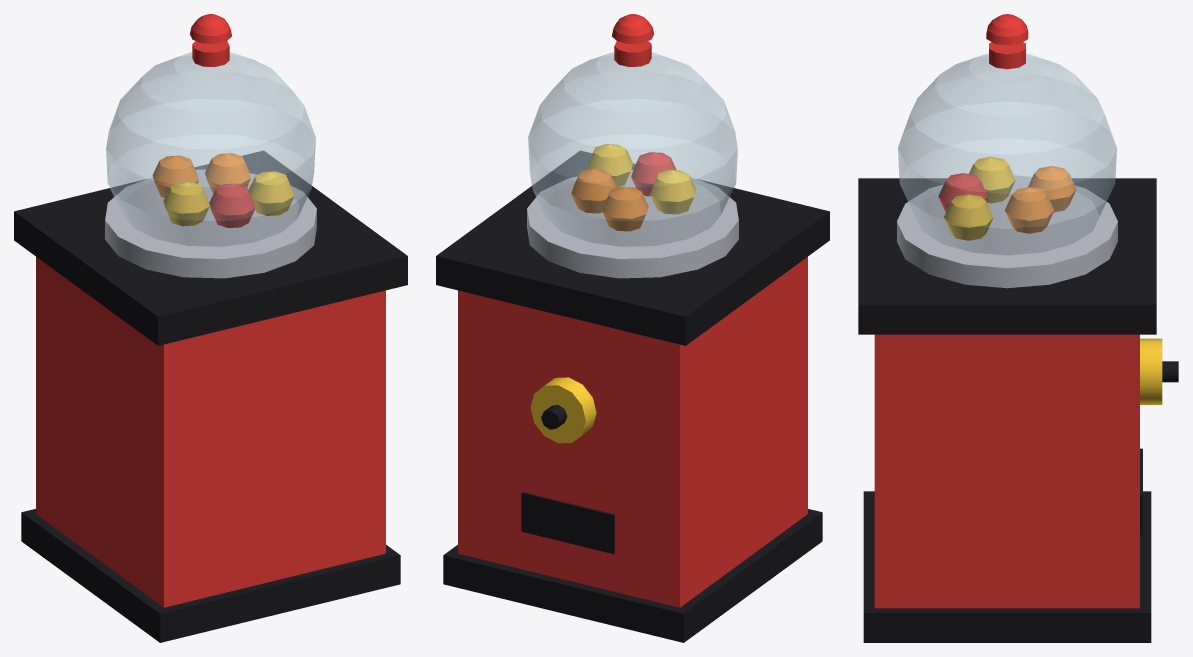
Rendered from Capsule_Toy.obj.
3 views of the same model, side by side, from view 1: azimuth 30°, elevation 25°; view 2: azimuth 150°, elevation 25°; view 3: azimuth 270°, elevation 25° (orthographic). The views are drawn at different scales.
Visible parts, largest first — view 1: Capsule_Toy; view 2: Capsule_Toy; view 3: Capsule_Toy.
Boxes of the visible parts, x1,y1,x2,y2 form: Capsule_Toy: [14, 14, 407, 642]; Capsule_Toy: [436, 14, 829, 642]; Capsule_Toy: [858, 14, 1178, 642].
Size of the model in its own units: 0.54 by 1.13 by 0.58.
